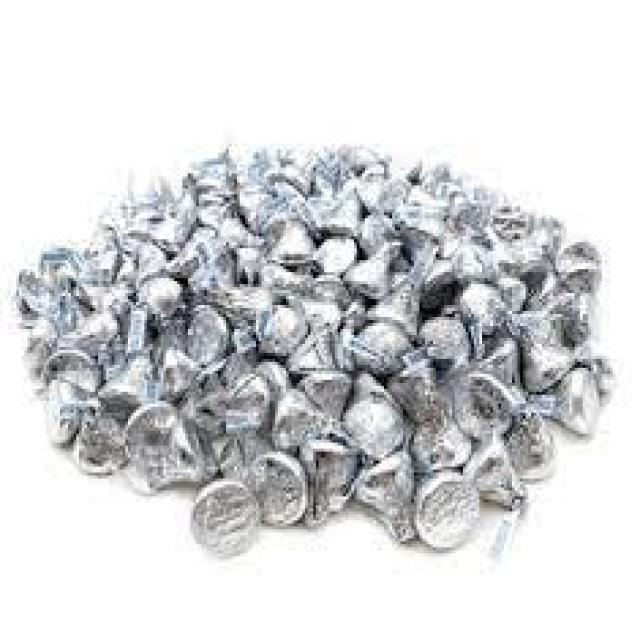kisses: (332, 452, 430, 549), (451, 424, 534, 516), (183, 465, 264, 558), (128, 267, 199, 337), (545, 371, 609, 446), (247, 291, 305, 368), (342, 242, 410, 305), (75, 402, 129, 480), (273, 203, 321, 271)
